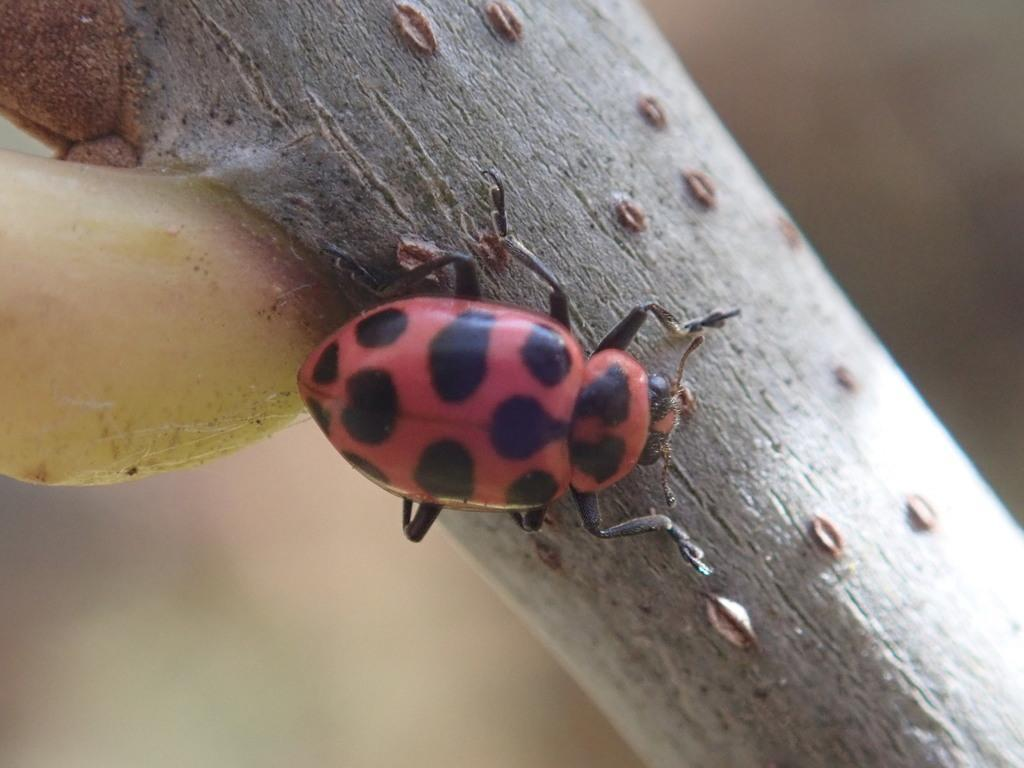ladybug: (295, 169, 745, 577)
